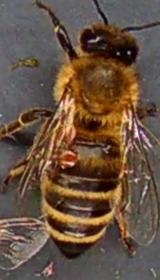varroa_mite: (58, 146, 80, 171)
